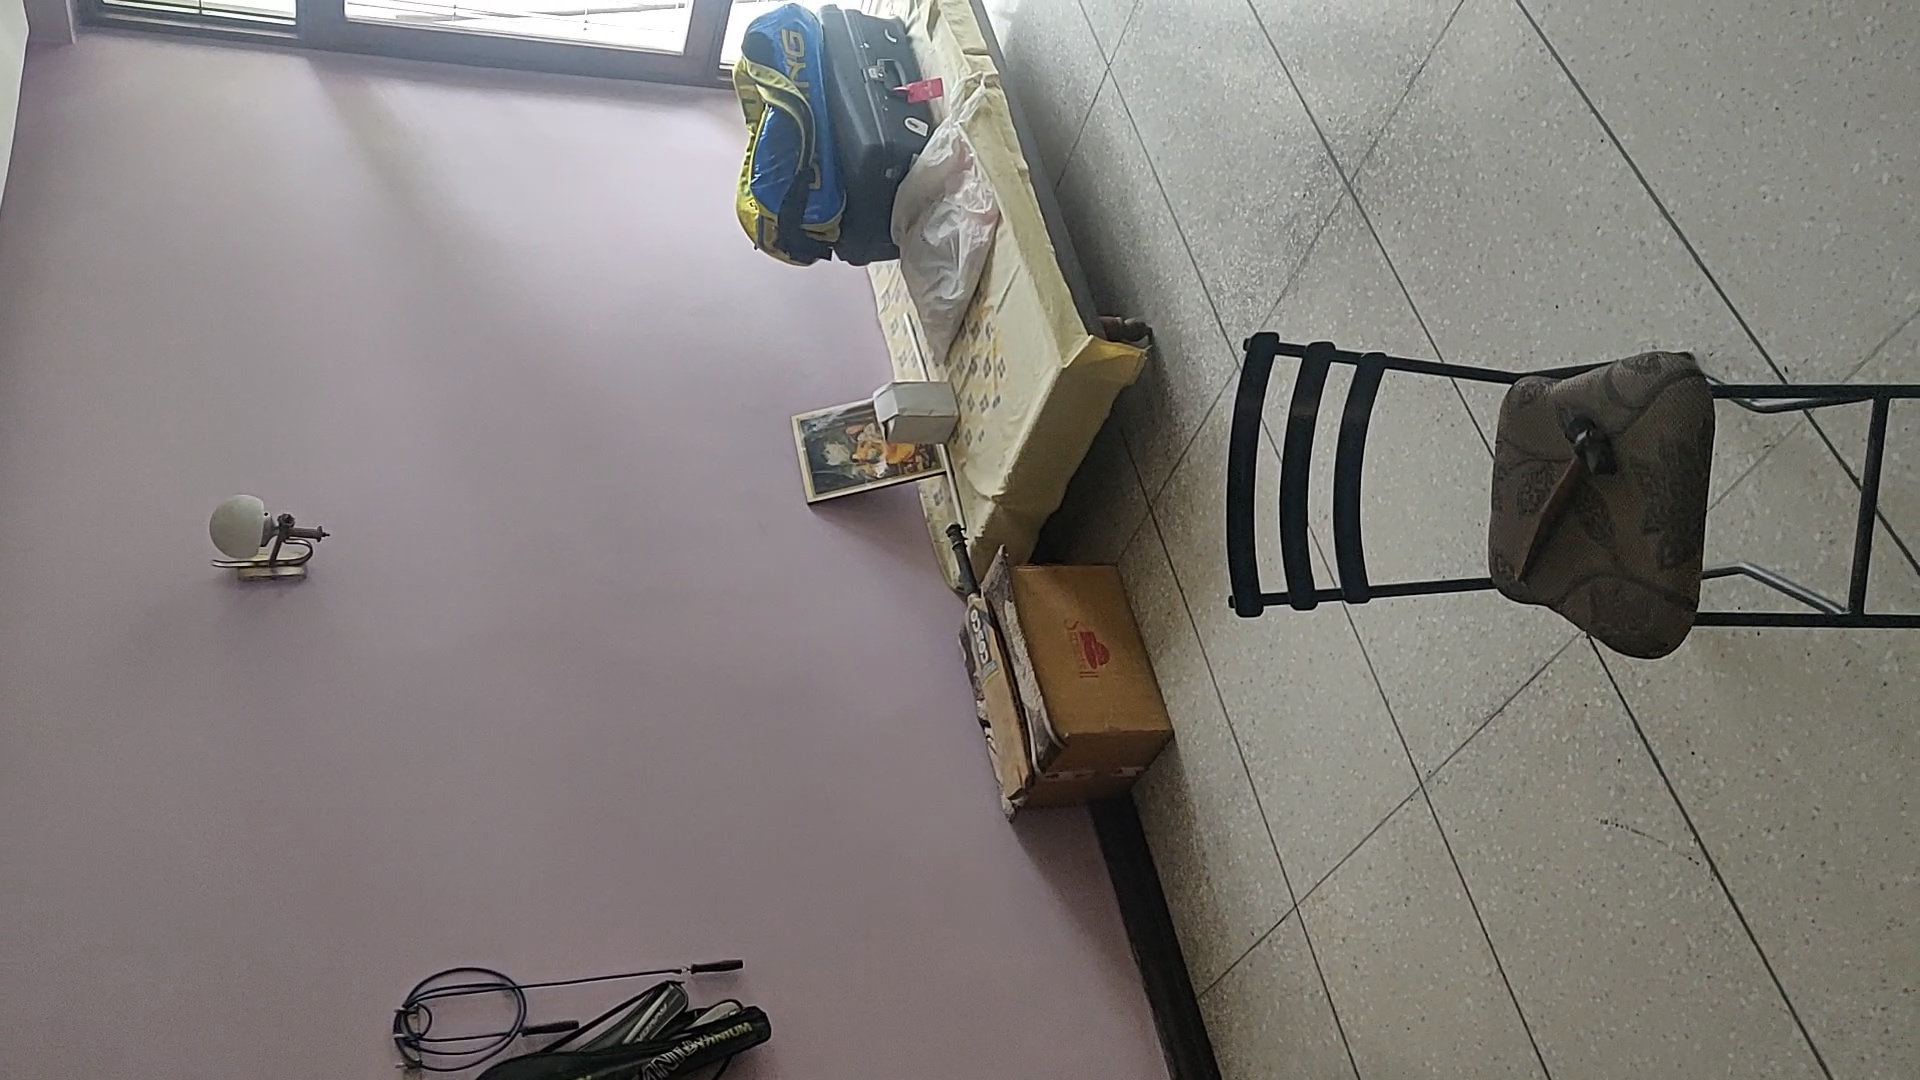hammer: (1515, 413, 1615, 575)
